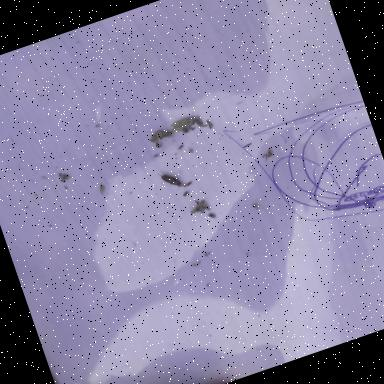pbw: (156, 166, 184, 196), (170, 116, 196, 134)
